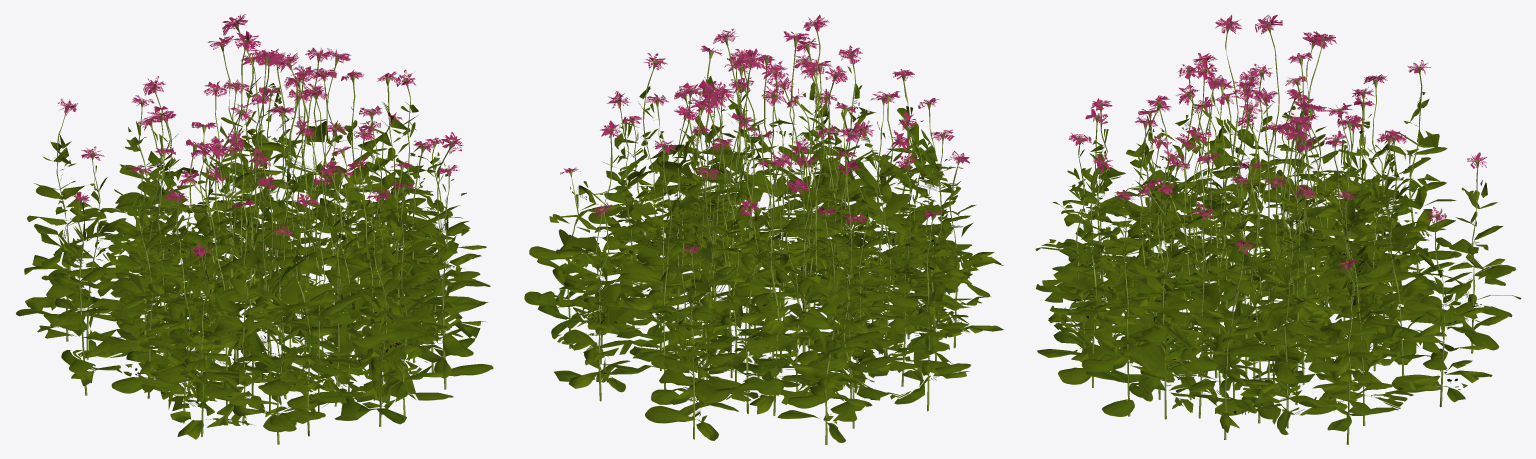
The model's file is fleurs.glb.
3 renders of one model, left to right at view 1: azimuth 30°, elevation 25°; view 2: azimuth 150°, elevation 25°; view 3: azimuth 270°, elevation 25°, orthographic.
Parts seen in each view (by area): view 1: flower_Leaf_MatSG_0, flower_Stem_MatSG_0, flower_Flower_MatSG_0; view 2: flower_Leaf_MatSG_0, flower_Stem_MatSG_0, flower_Flower_MatSG_0; view 3: flower_Leaf_MatSG_0, flower_Stem_MatSG_0, flower_Flower_MatSG_0.
Part boxes in pixels (x1,y1,x2,y2): flower_Leaf_MatSG_0: (16, 77, 493, 439); flower_Stem_MatSG_0: (56, 21, 454, 444); flower_Flower_MatSG_0: (58, 14, 463, 256); flower_Leaf_MatSG_0: (524, 66, 1003, 442); flower_Stem_MatSG_0: (567, 22, 961, 444); flower_Flower_MatSG_0: (560, 14, 969, 255); flower_Leaf_MatSG_0: (1035, 91, 1521, 435); flower_Stem_MatSG_0: (1076, 22, 1479, 444); flower_Flower_MatSG_0: (1068, 14, 1486, 275).
Bounding box in the file's own units: 5.56 × 4.32 × 5.67.
Materials: 3 (3 with a texture image).
